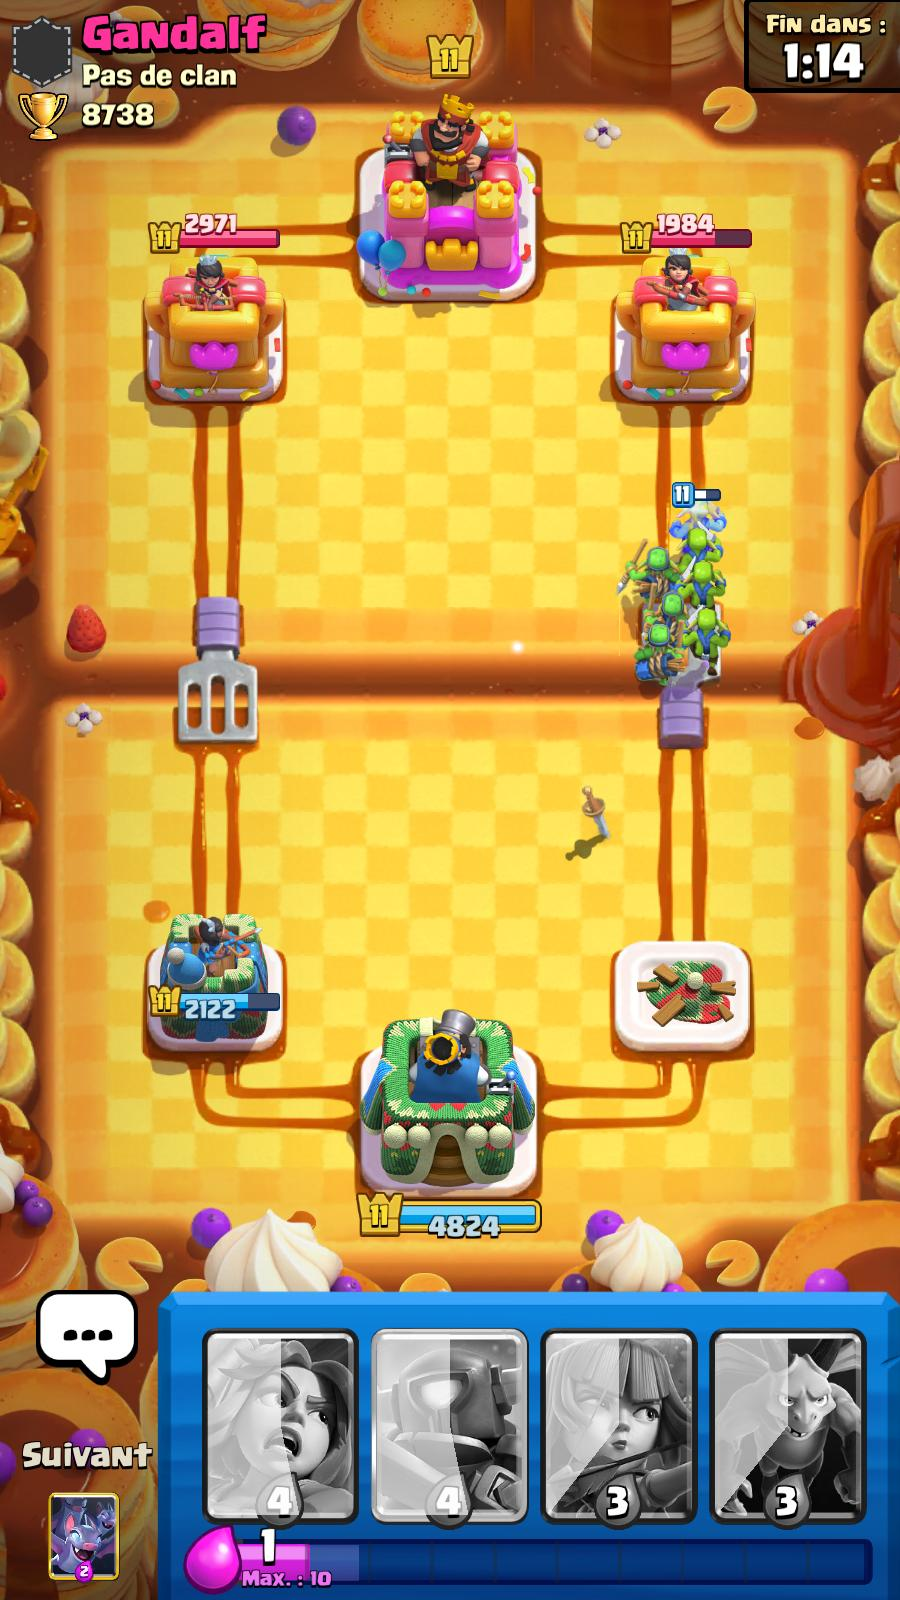gobelin: (674, 599, 735, 679), (671, 489, 734, 552), (673, 565, 734, 611), (676, 529, 727, 578)
gobelin_lances: (618, 532, 684, 603), (631, 626, 693, 701), (641, 582, 695, 647)
